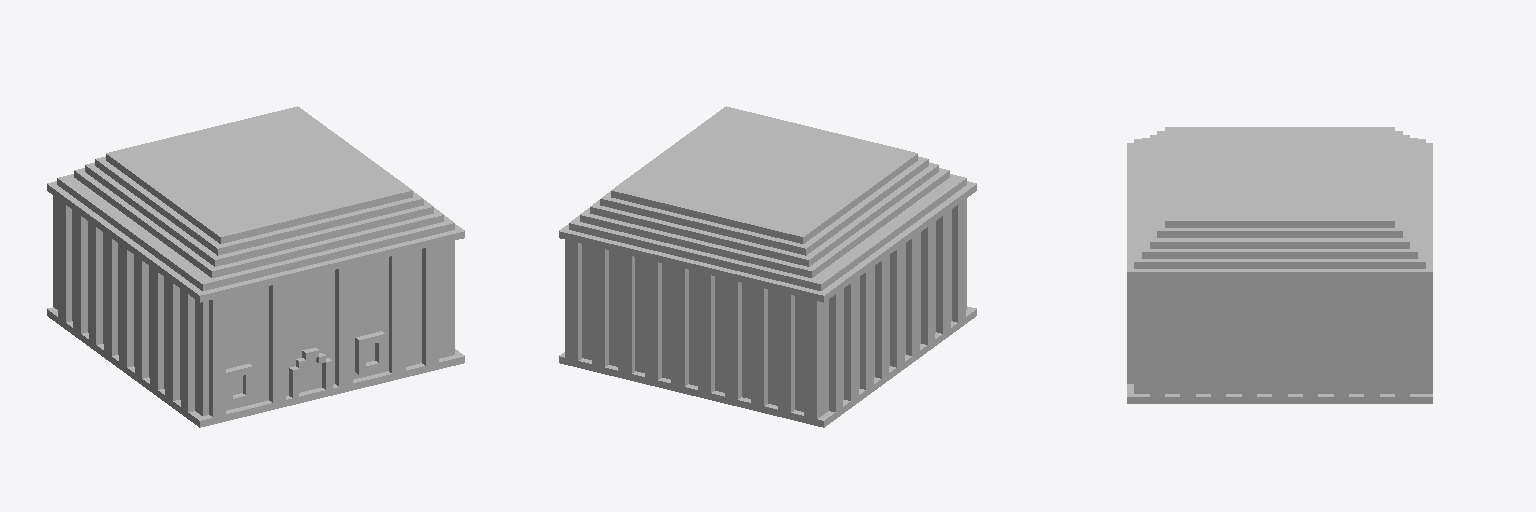
The model's file is Manor.obj.
3 views of the same model, side by side, from view 1: azimuth 30°, elevation 25°; view 2: azimuth 150°, elevation 25°; view 3: azimuth 270°, elevation 25° (orthographic).
Parts seen in each view (by area): view 1: object 1; view 2: object 1; view 3: object 1.
Boxes of the visible parts, x1,y1,x2,y2 form: object 1: [47, 106, 464, 427]; object 1: [559, 106, 976, 427]; object 1: [1127, 127, 1432, 403].
Size of the model in its own units: 4 by 2.4 by 4.